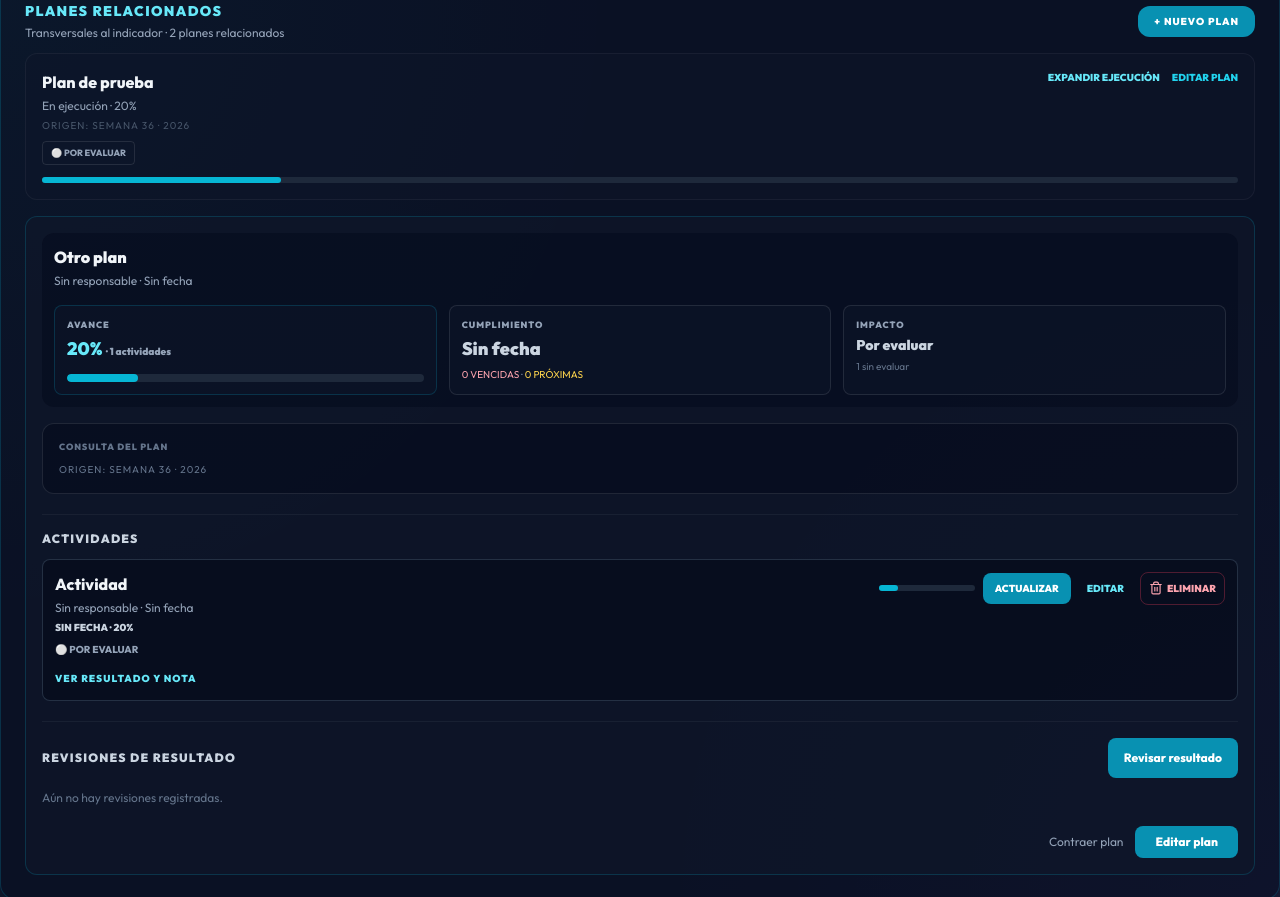
RelatedActionPlans delete contract › initialPlanId opens the exact plan compactly until plan editing is requested
(page scrolled)
Expected: the button "Contraer plan" is shown, [1049,826,1124,858]
Expected: the heading "Otro plan" is shown, [54,246,127,266]
Click the 2nd button "Editar plan".
click(1187, 842)  # box [1136,826,1238,858]
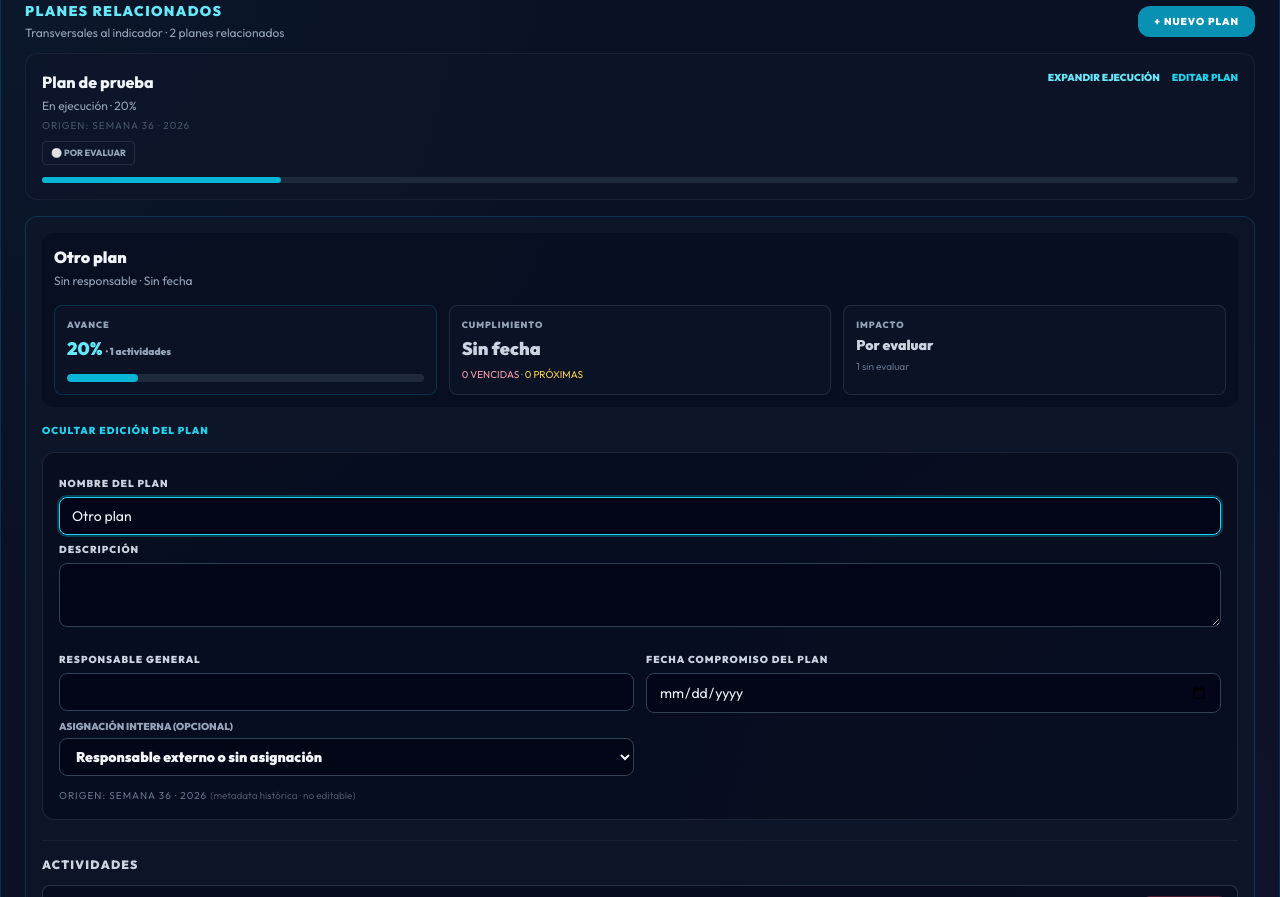
Now the field labelled "Nombre del plan" holds "Otro plan", box [59,497,1221,535]
